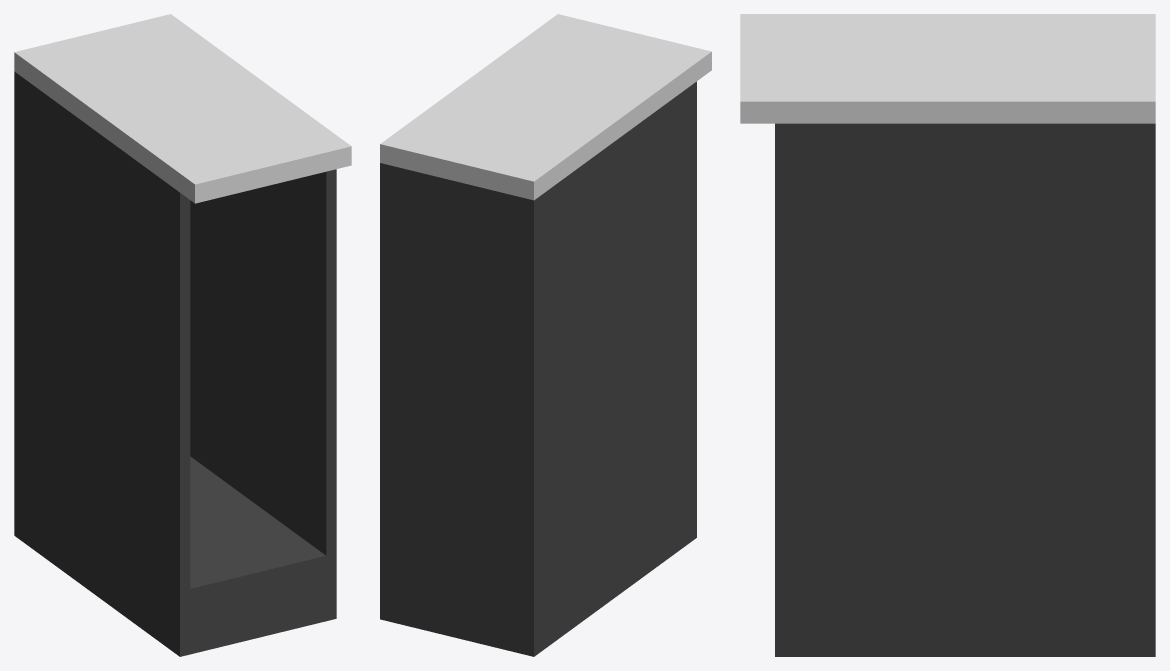
The model's file is Kitchen1_C3_03.fbx.
3 views of the same model, side by side, from view 1: azimuth 30°, elevation 25°; view 2: azimuth 150°, elevation 25°; view 3: azimuth 270°, elevation 25° (orthographic). The views are drawn at different scales.
Parts seen in each view (by area): view 1: Kitchen1_C3_03; view 2: Kitchen1_C3_03; view 3: Kitchen1_C3_03.
Boxes of the visible parts, <box> form: Kitchen1_C3_03: <box>14,14,351,656</box>; Kitchen1_C3_03: <box>380,14,711,656</box>; Kitchen1_C3_03: <box>740,14,1155,656</box>.
Size of the model in its own units: 30 by 88.5 by 60.
